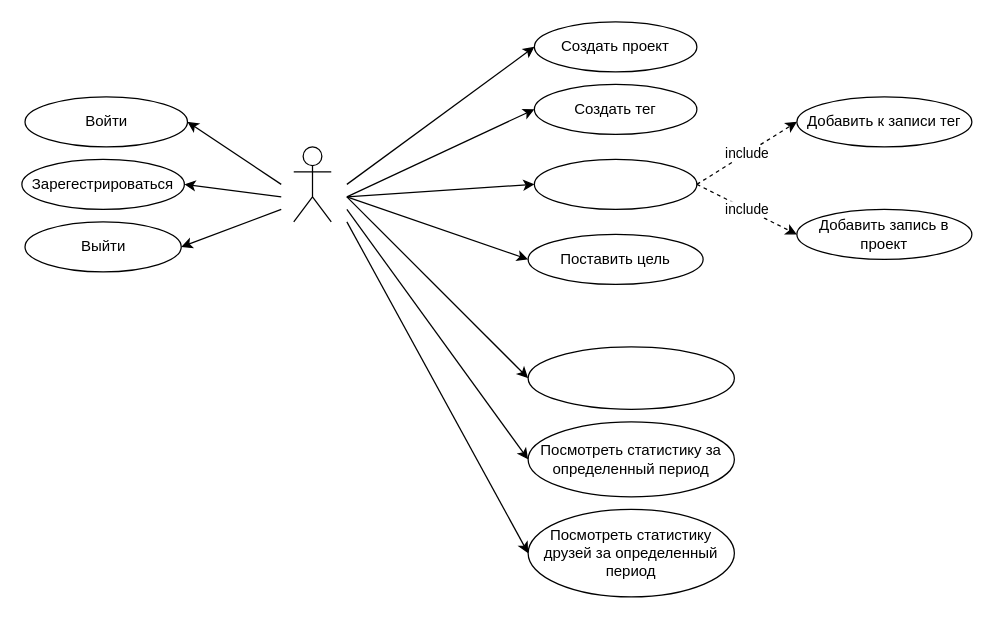
The diagram is 994 pixels wide and 619 high, and some of its shapes have lost their labels. The centre of each missing label's shape, as x and y in pixels:
"Добавить пользователя в друзья" belongs at pixel 630 377.
"Пользователь" belongs at pixel 311 184.
"Создать запись" belongs at pixel 615 183.
